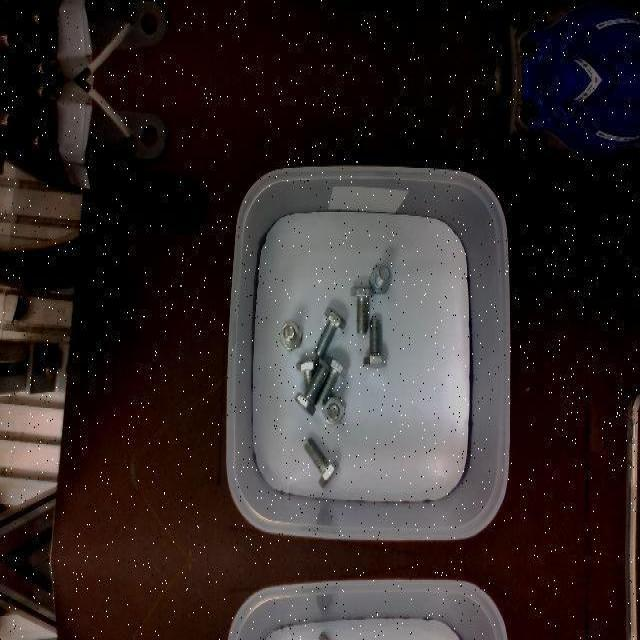screw: (294, 364, 329, 416), (304, 437, 339, 487), (314, 306, 346, 358), (316, 355, 347, 405), (362, 317, 386, 367), (351, 286, 374, 334), (280, 321, 303, 351), (322, 396, 345, 426), (368, 266, 390, 294)
